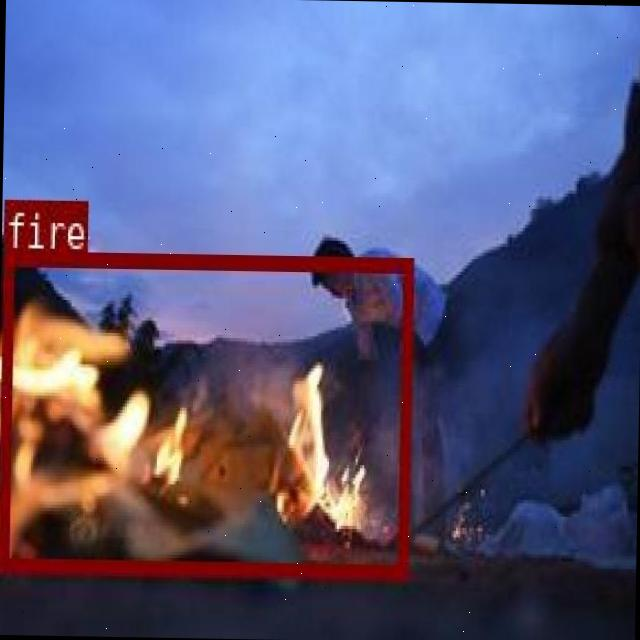fire: (0, 250, 410, 574)
